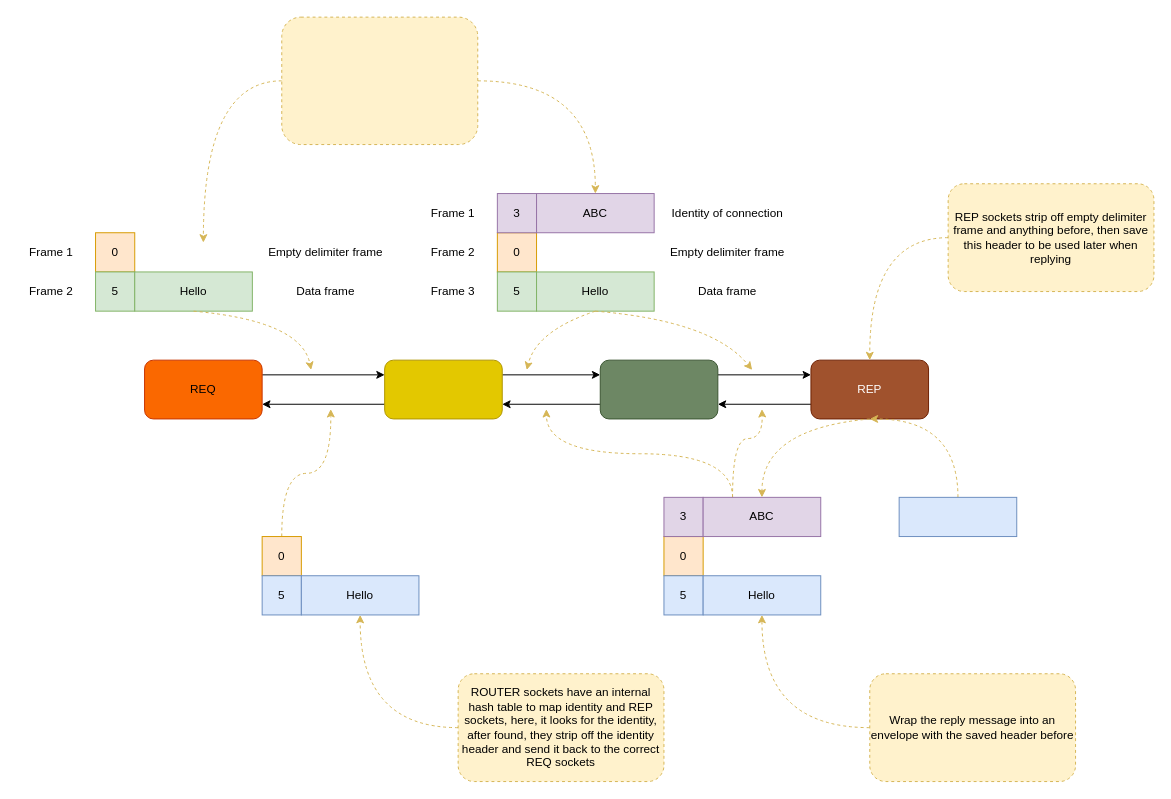
This 1171x799 diagram has some shape labels left out. Each missing label, with the box of its shape:
'ABC' is the identity of REQ socket in this case: (281, 16, 478, 145)
DEALER: (599, 359, 718, 419)
ROUTER: (384, 359, 502, 419)
World: (898, 496, 1017, 537)
